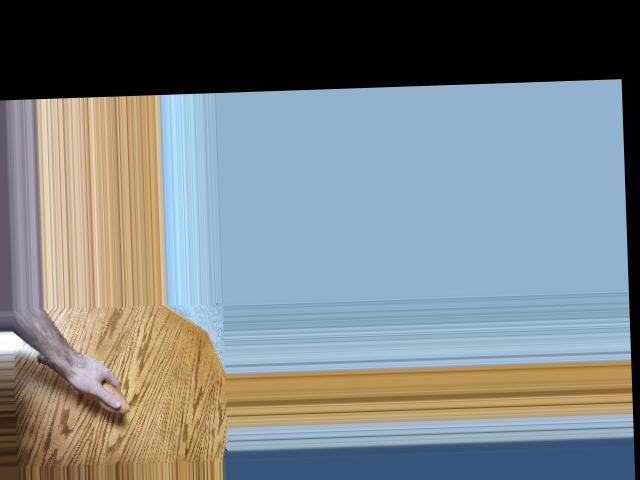sweet_potato: (38, 351, 131, 417)
